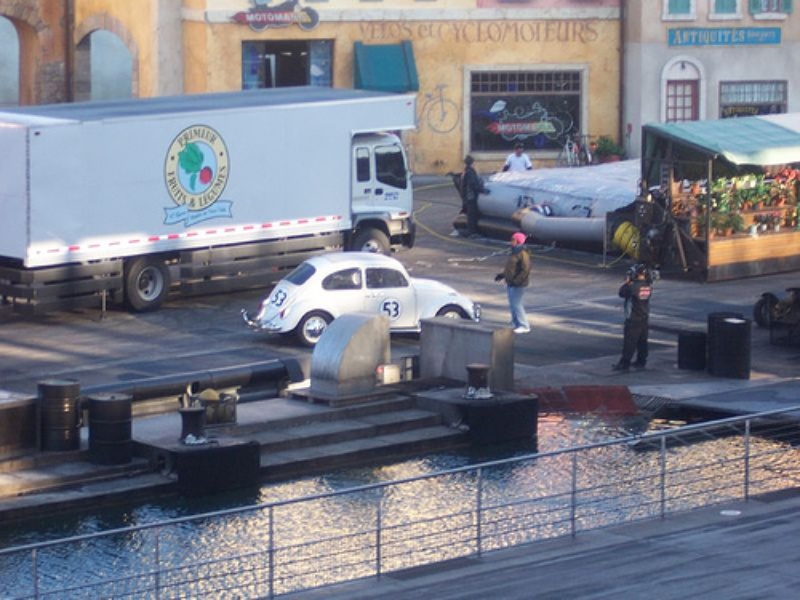car: (1, 87, 416, 311), (241, 251, 481, 345)
person: (611, 264, 652, 371), (494, 233, 532, 335), (459, 154, 493, 239), (502, 143, 532, 170)
